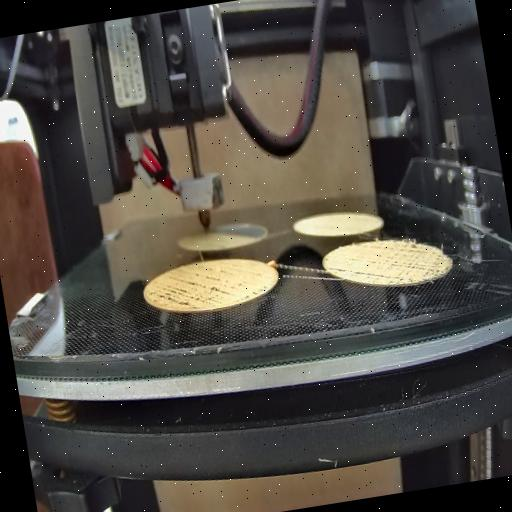under_extrusion: (142, 264, 269, 319), (364, 238, 446, 290), (322, 254, 367, 286)
